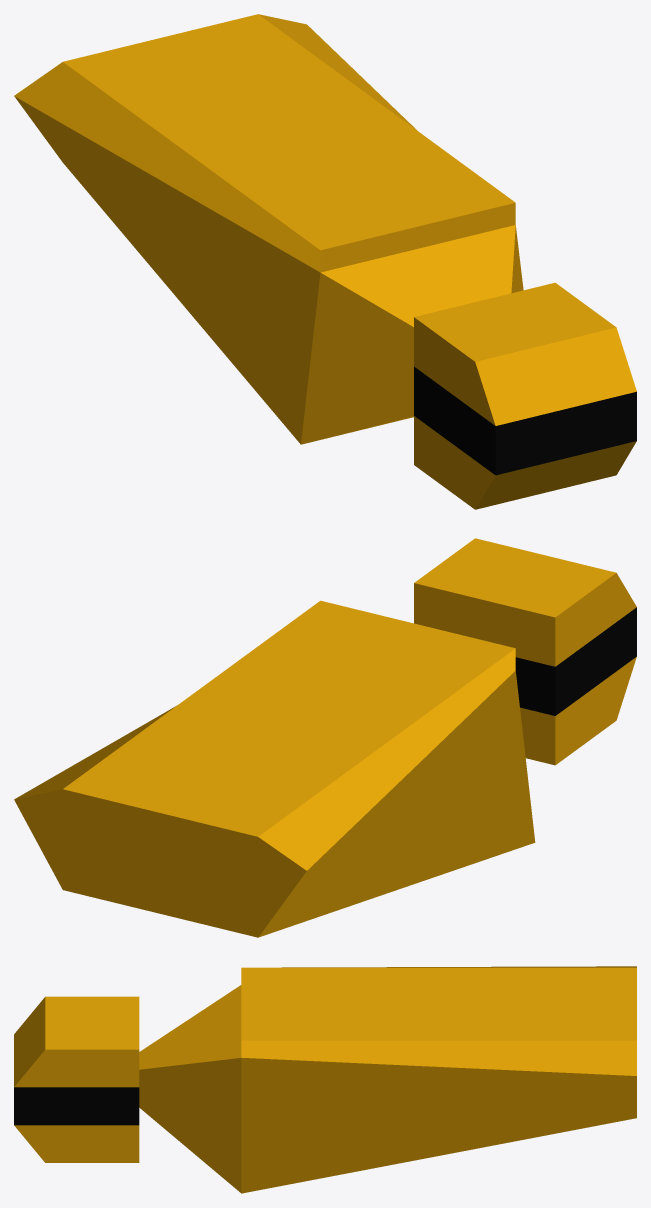
File: TarShip.fbx
3 views of the same model, one above another, from view 1: azimuth 30°, elevation 25°; view 2: azimuth 150°, elevation 25°; view 3: azimuth 270°, elevation 25° (orthographic). The views are drawn at different scales.
Visible parts, largest first — view 1: Cube; view 2: Cube; view 3: Cube.
Boxes of the visible parts, bbox=[...] form: Cube: bbox=[14, 14, 636, 509]; Cube: bbox=[14, 538, 636, 937]; Cube: bbox=[14, 966, 636, 1193].
Size of the model in its own units: 415 by 256 by 995.
